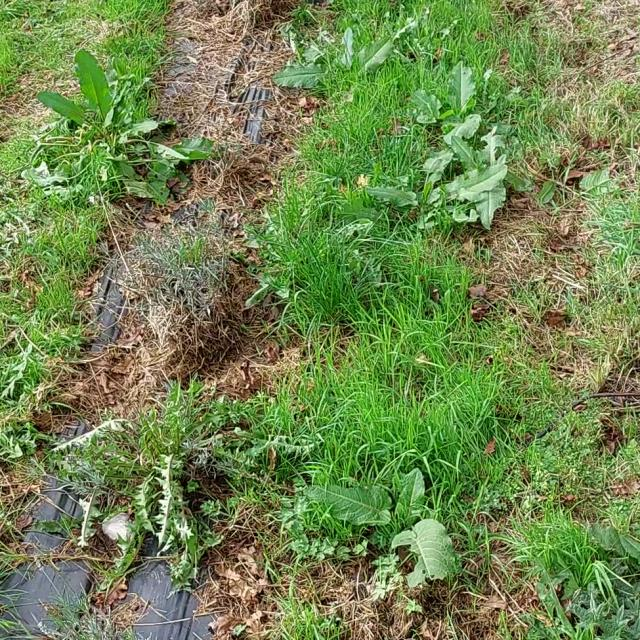organic waste: (296, 441, 496, 594), (27, 42, 190, 213), (255, 0, 446, 100), (335, 154, 547, 231), (406, 119, 545, 214), (404, 68, 519, 140)
